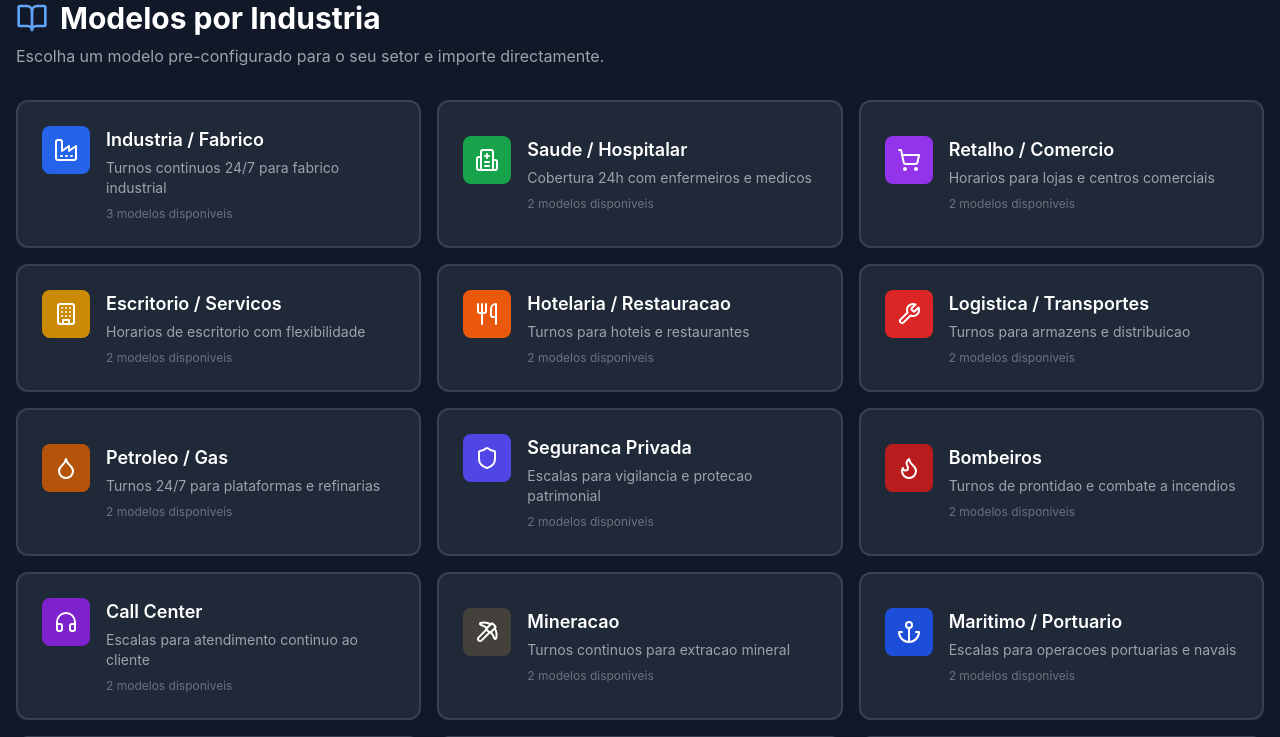
Scenario: ScheduleTemplates › should expand an industry to show templates
This screenshot has width=1280, height=737.
What coordinates should you click on to do the following:
click the heading "Industria / Fabrico"
I would click on:
 (185, 140)
Its box is [106,129,264,150].
(page scrolled)
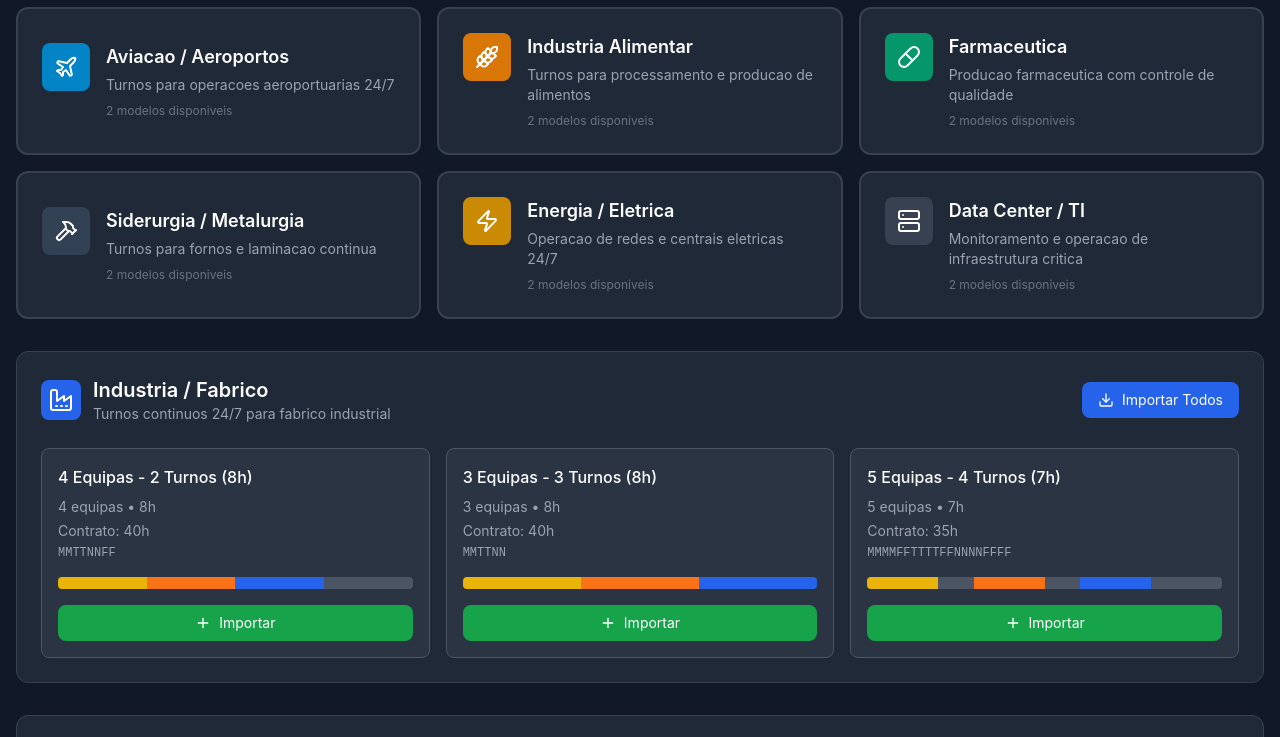
Check: the heading "4 Equipas - 2 Turnos (8h)" is shown, box [58,467,253,487]
Check: the button "Importar Todos" is shown, box [1082,382,1239,418]
